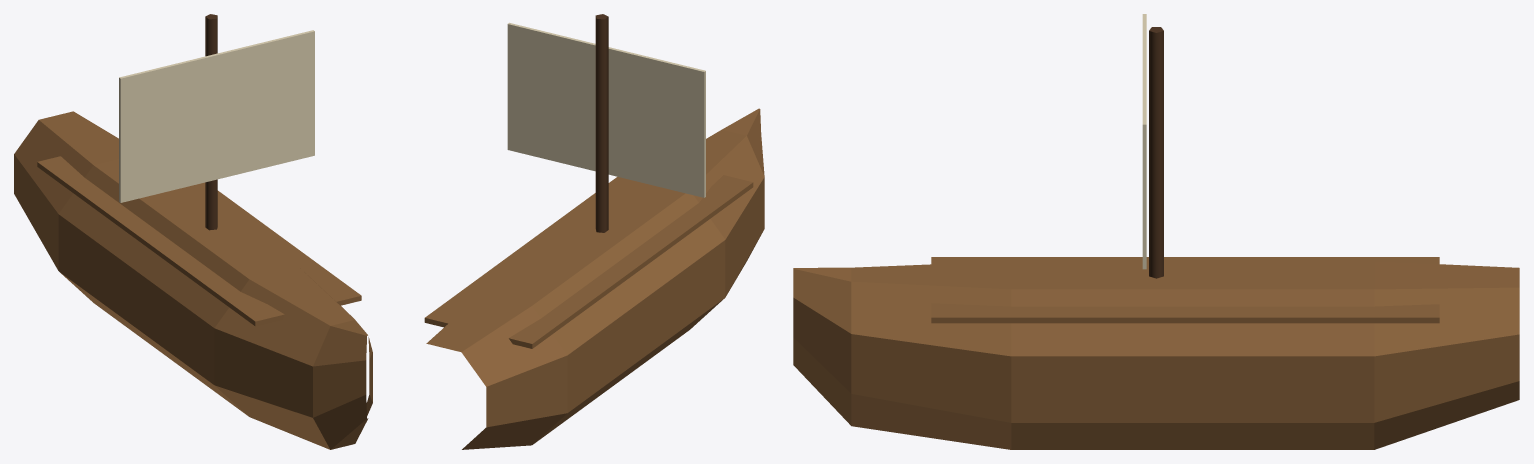
The model's file is veh_naval_merchant_a01.glb.
3 views of the same model, side by side, from view 1: azimuth 30°, elevation 25°; view 2: azimuth 150°, elevation 25°; view 3: azimuth 270°, elevation 25° (orthographic). The views are drawn at different scales.
Visible parts, largest first — view 1: body, sail_0; view 2: body, sail_0; view 3: body, sail_0.
Boxes of the visible parts, left/top/right/bottom form: body: left=14, top=14, right=372, bottom=449; sail_0: left=119, top=30, right=314, bottom=202; body: left=424, top=14, right=764, bottom=449; sail_0: left=507, top=22, right=705, bottom=197; body: left=793, top=27, right=1519, bottom=449; sail_0: left=1142, top=14, right=1146, bottom=269.
Size of what is drawn, in the model's own units: 3.31 by 5.68 by 9.2.
